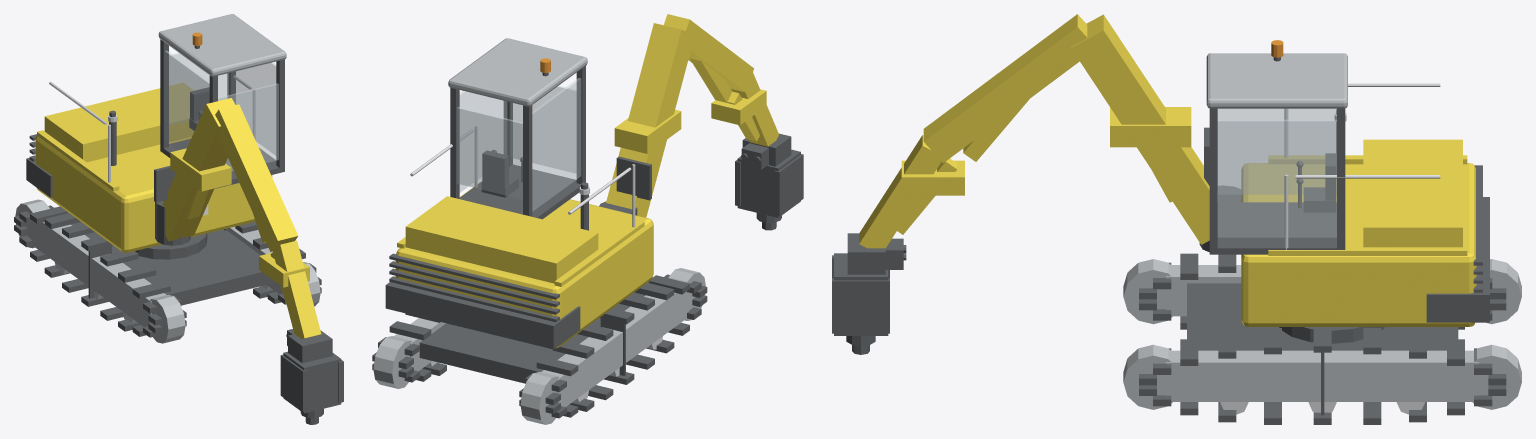
The model's file is demolition-and-site-clearance-demolition-and-site-clea-33f05b81__35687.glb.
3 views of the same model, side by side, from view 1: azimuth 30°, elevation 25°; view 2: azimuth 150°, elevation 25°; view 3: azimuth 270°, elevation 25° (orthographic). The views are drawn at different scales.
Visible parts, largest first — view 1: demolition-and-site-clearance-tracked-excavator-with-breaker (×5), boom, breaker; view 2: demolition-and-site-clearance-tracked-excavator-with-breaker (×5), boom, breaker; view 3: demolition-and-site-clearance-tracked-excavator-with-breaker (×5), boom, breaker.
Boxes of the visible parts, x1,y1,x2,y2 form: demolition-and-site-clearance-tracked-excavator-with-breaker (×5): (14,14,321,343); boom: (162,98,321,339); breaker: (280,329,343,424); demolition-and-site-clearance-tracked-excavator-with-breaker (×5): (372,38,707,424); boom: (606,14,778,217); breaker: (735,133,803,230); demolition-and-site-clearance-tracked-excavator-with-breaker (×5): (1123,53,1521,424); boom: (859,14,1217,248); breaker: (832,233,906,354).
Size of the model in its own units: 2.76 by 4.11 by 7.62.
